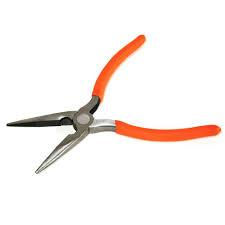pliers: (5, 32, 221, 174)
